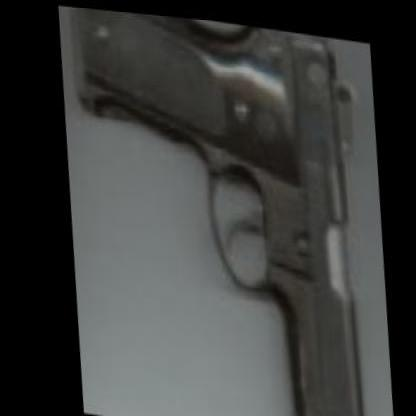pistol: (59, 4, 388, 415)
